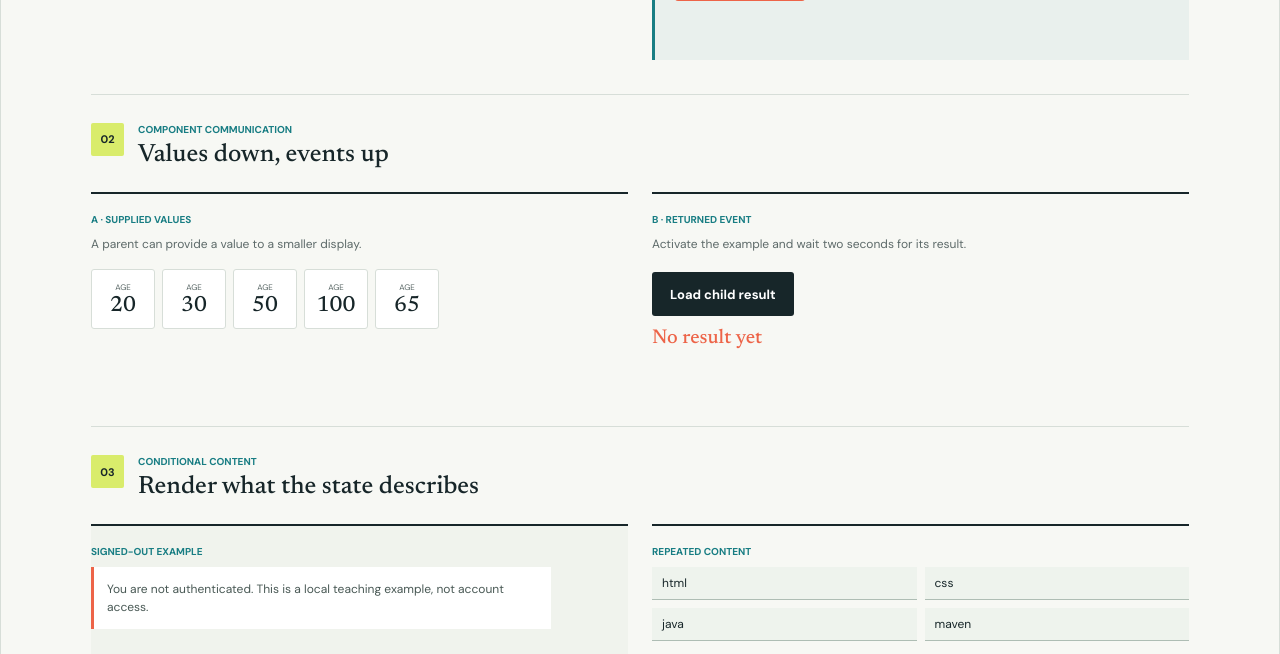
Scenario: application routes and shared flows › shows the learning examples and delayed child event
(page scrolled)
expect the text "You are not authenticated. This is a local teaching example, not account access." is shown: met, box [91,567,551,629]
Click the button "Load child result" at point(723, 294), box [652,272,794,316]
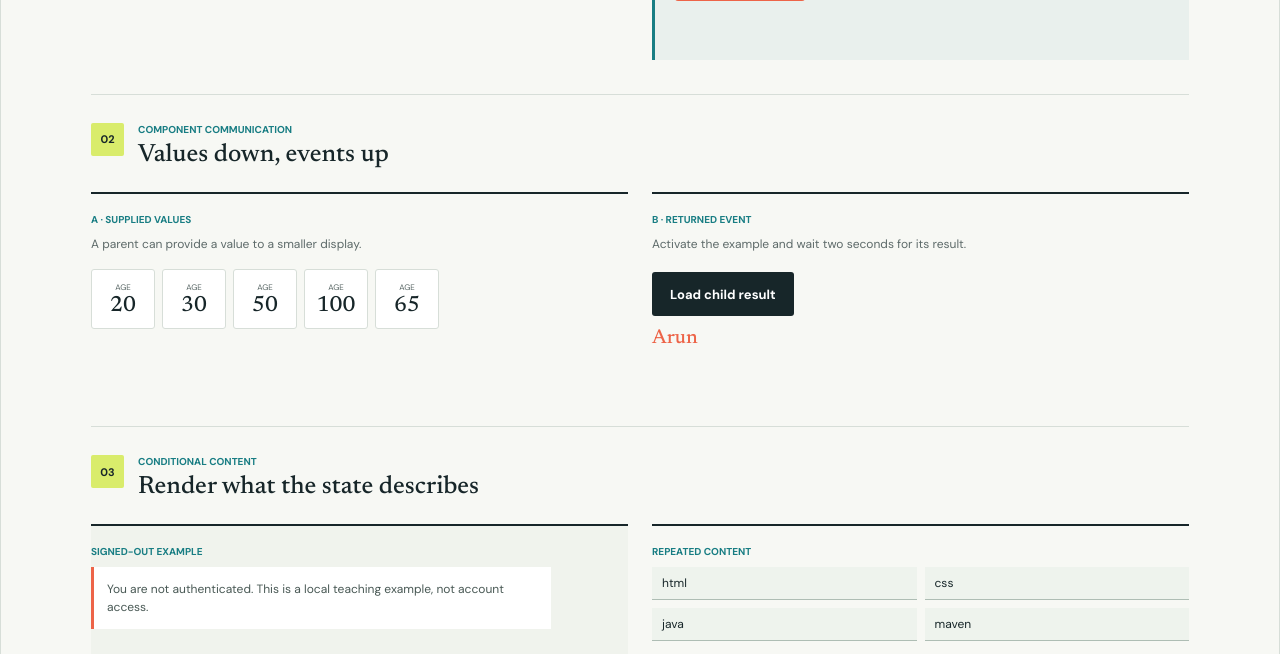
expect the text "Arun" is shown: met, box [652,328,698,348]
